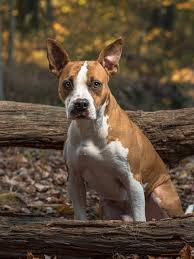dog: (41, 33, 188, 225)
